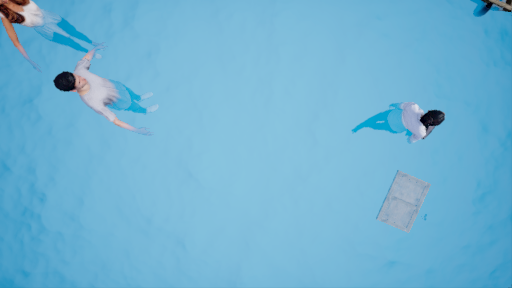person: (59, 53, 162, 142), (1, 1, 111, 78), (348, 98, 450, 151)
